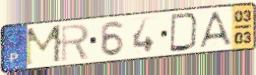4: (132, 16, 158, 56)
6: (99, 20, 125, 58)
A: (197, 10, 234, 50)
D: (169, 12, 201, 53)
M: (24, 23, 64, 68)
R: (60, 22, 92, 64)
